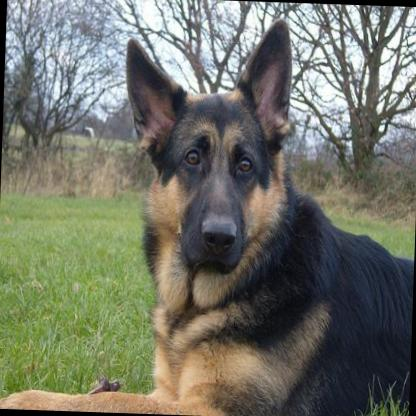German_shepherd: (0, 6, 416, 416)
